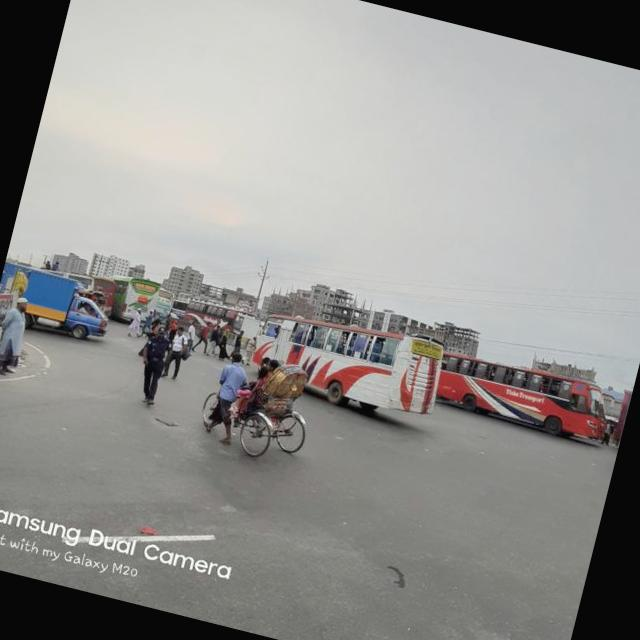bus: (245, 295, 448, 422), (432, 344, 614, 442), (181, 294, 258, 336), (107, 270, 161, 324), (86, 274, 117, 314), (151, 286, 175, 321), (168, 296, 186, 320)
motorcycle: (192, 344, 319, 466)
truck: (0, 261, 114, 343)
